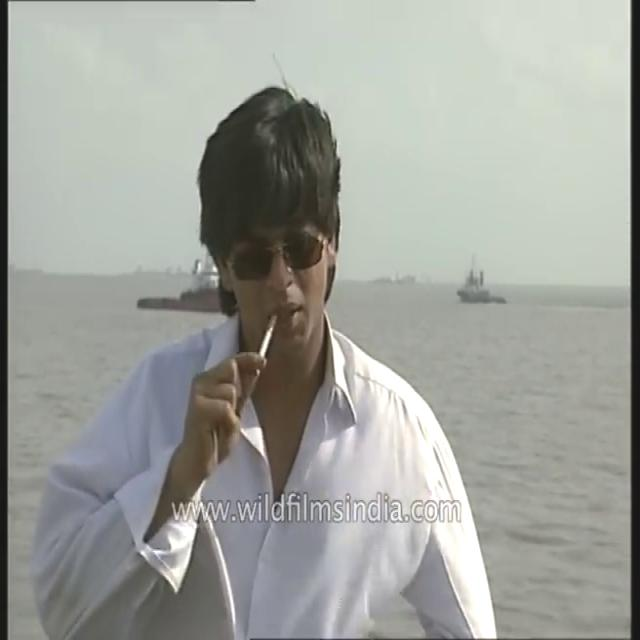Smooking: (255, 308, 287, 382)
